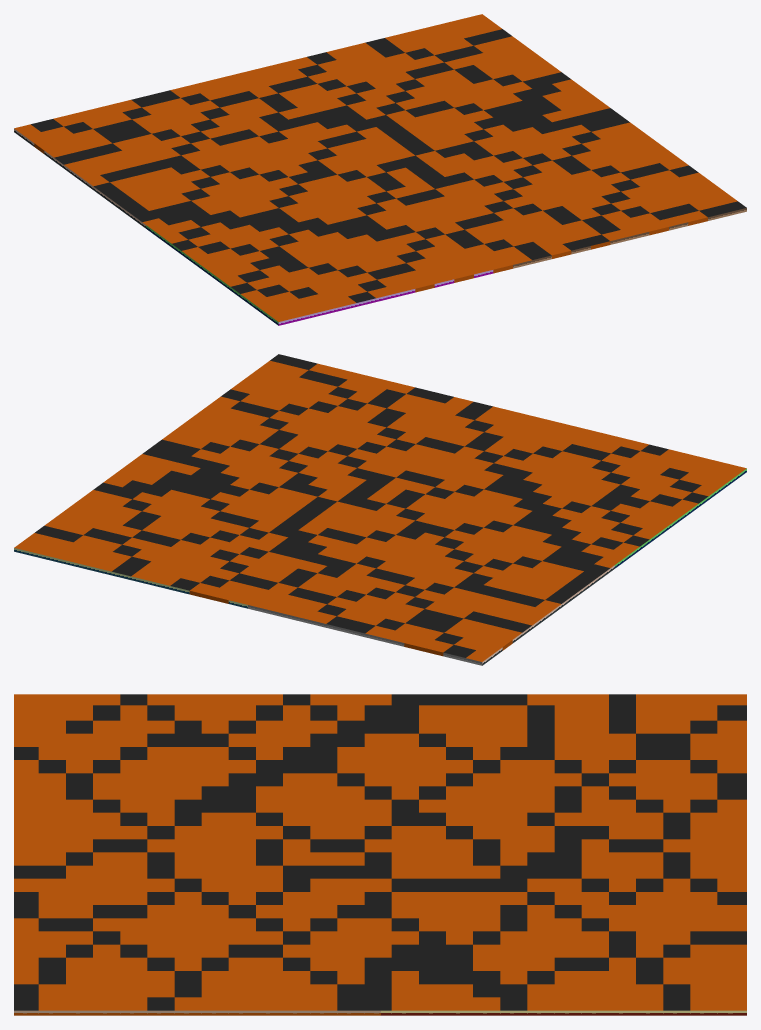
File: Flor1.fbx
3 renders of one model, top to bottom at view 1: azimuth 30°, elevation 25°; view 2: azimuth 150°, elevation 25°; view 3: azimuth 270°, elevation 25°, orthographic. The views are drawn at different scales.
Visible parts, largest first — view 1: Cube.001; view 2: Cube.001; view 3: Cube.001.
Boxes of the visible parts, left/top/right/bottom form: Cube.001: left=14, top=14, right=746, bottom=325; Cube.001: left=14, top=354, right=746, bottom=665; Cube.001: left=14, top=694, right=746, bottom=1015.
Bounding box in the file's own units: 2475 × 19.28 × 2423.
1 material, 1 textured.
